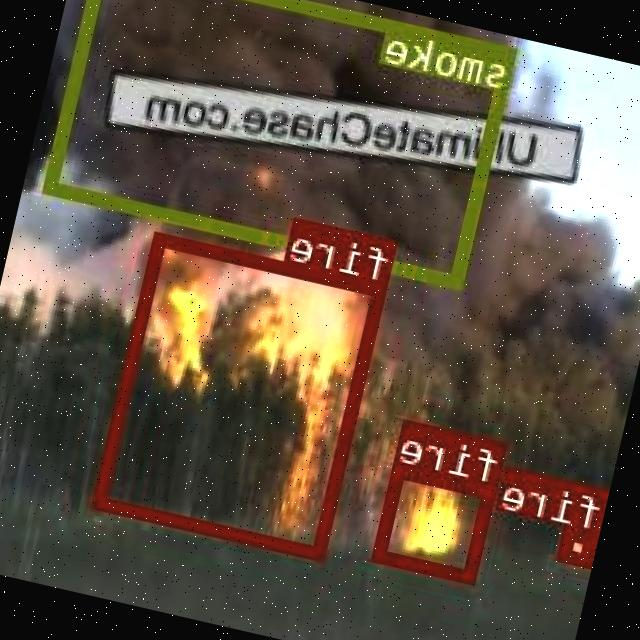fire: (96, 230, 390, 559), (374, 462, 498, 582), (558, 522, 600, 566)
smoke: (44, 0, 517, 286)
